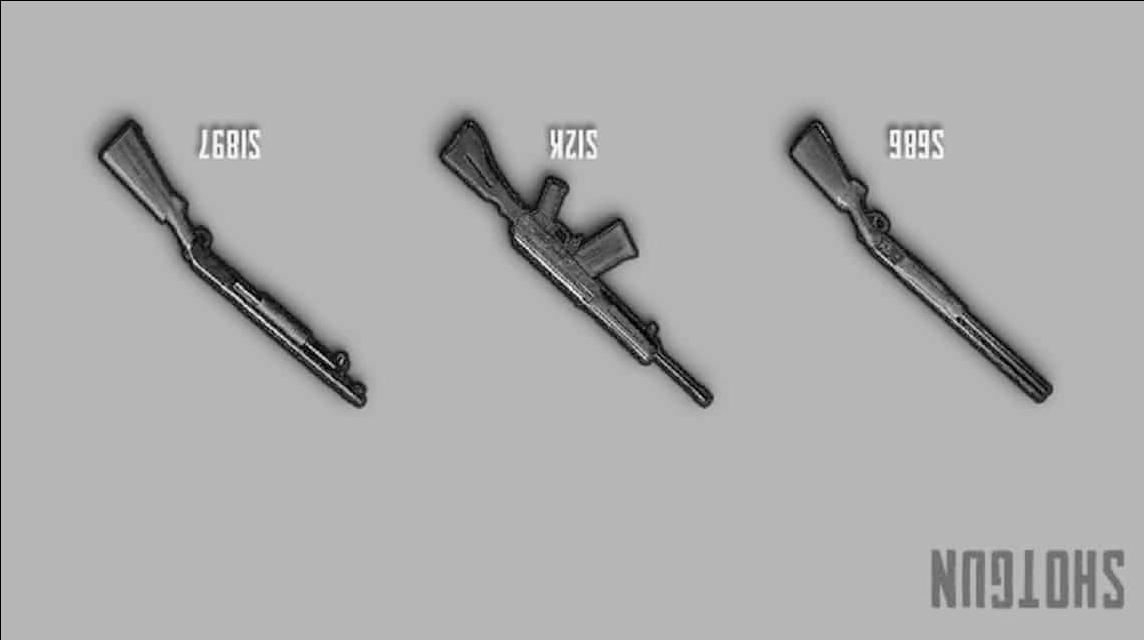gun: (434, 110, 716, 410), (783, 110, 1056, 406), (95, 115, 368, 408)
